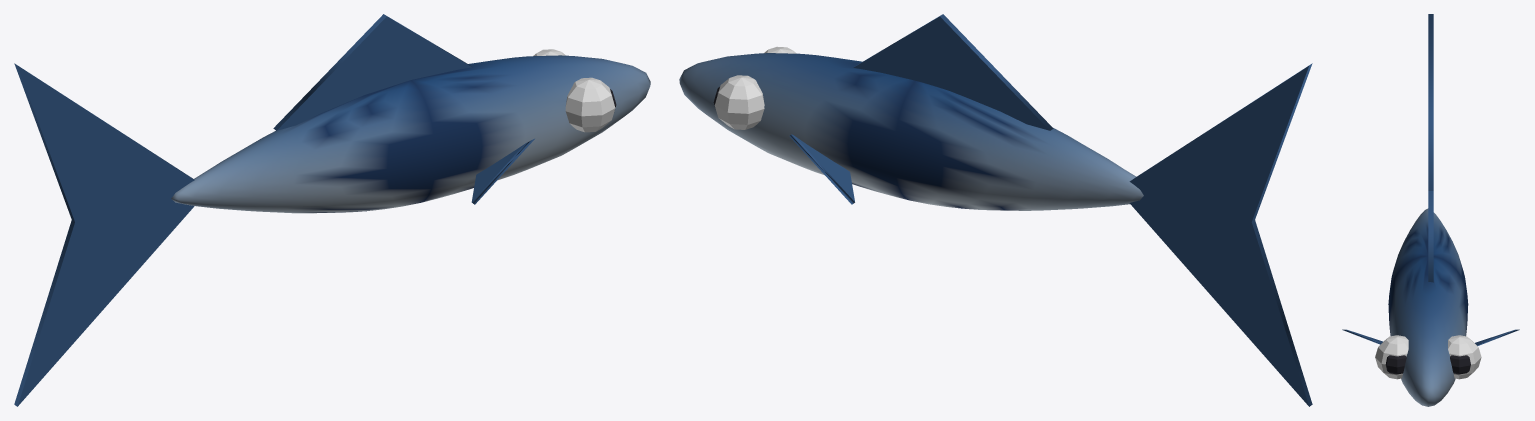
The model's file is fish_sea1_lite.glb.
3 renders of one model, left to right at view 1: azimuth 30°, elevation 25°; view 2: azimuth 150°, elevation 25°; view 3: azimuth 270°, elevation 25°, orthographic. The views are drawn at different scales.
Visible parts, largest first — view 1: p; view 2: p; view 3: p.
Part boxes in pixels (left/top/right/bottom): p: left=14, top=14, right=650, bottom=406; p: left=679, top=14, right=1312, bottom=406; p: left=1342, top=14, right=1519, bottom=406.
Bounding box in the file's own units: 1.32 × 0.68 × 0.405.
